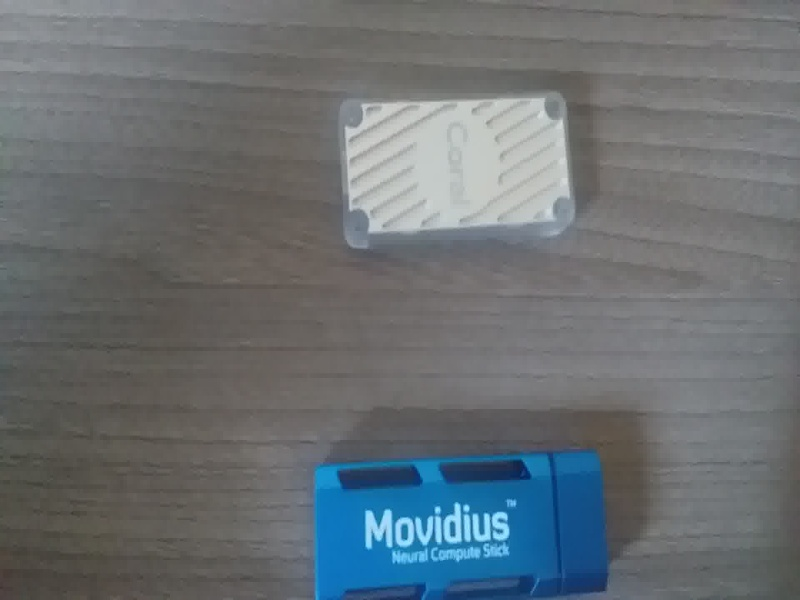coral: (326, 78, 615, 288)
movidius: (300, 448, 609, 600)
